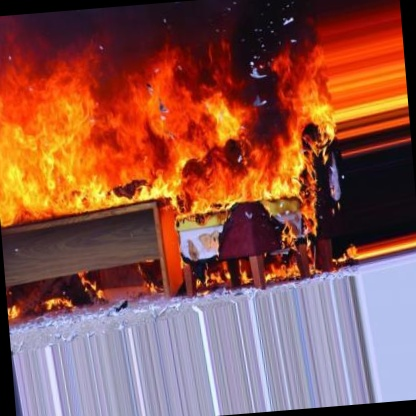fire: (0, 0, 389, 286)
